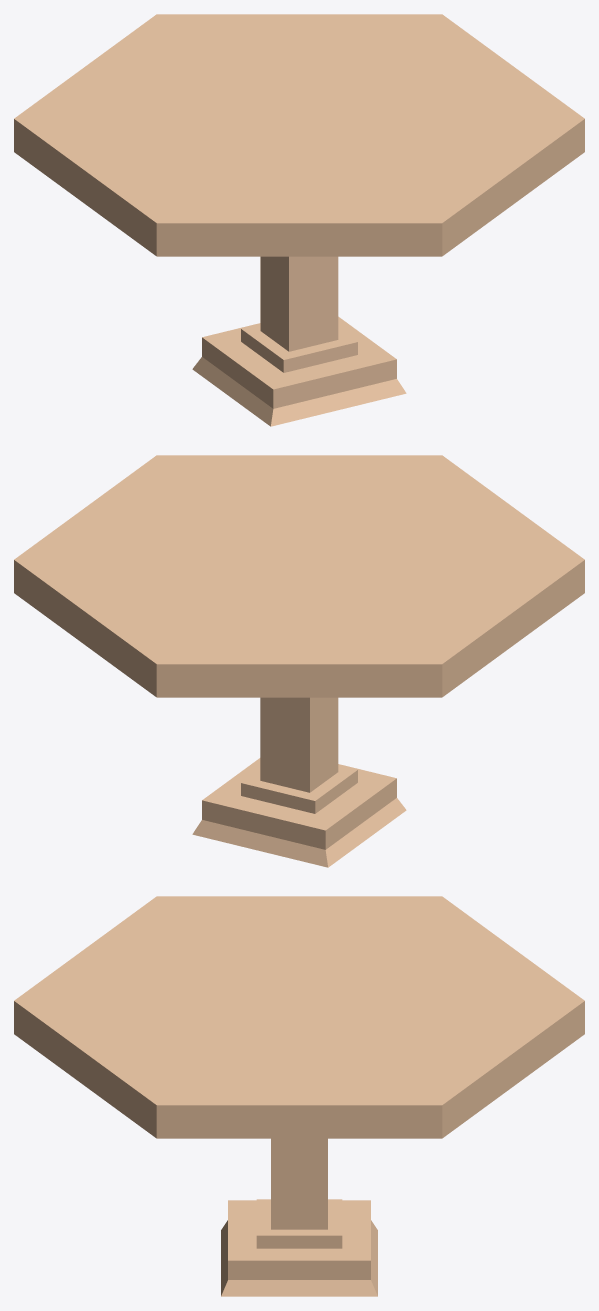
The model's file is Table-round.fbx.
3 views of the same model, one above another, from view 1: azimuth 30°, elevation 25°; view 2: azimuth 150°, elevation 25°; view 3: azimuth 270°, elevation 25° (orthographic).
Visible parts, largest first — view 1: tableRound; view 2: tableRound; view 3: tableRound.
Boxes of the visible parts, <box> form: tableRound: <box>14,14,584,426</box>; tableRound: <box>14,455,584,867</box>; tableRound: <box>14,896,584,1296</box>.
Size of the model in its own units: 170 by 99.88 by 197.
